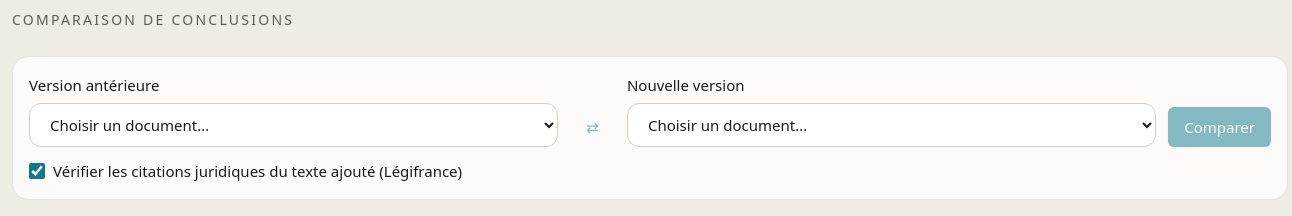
Test: CompareSection › keeps the compare button disabled until two distinct documents are selected
Check: the button "Comparer" is disabled, box [1168,107,1271,147]
Select "v1.docx" in the dropdown labelled "Version antérieure": (294, 125) [29,103,558,147]
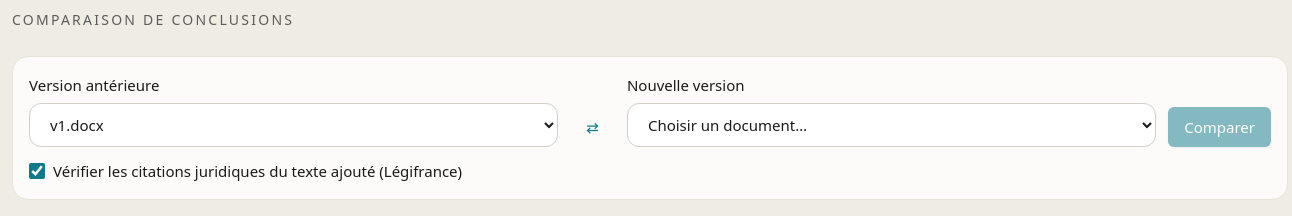
Select "v1.docx" in the dropdown labelled "Nouvelle version": (892, 125) [627,103,1156,147]
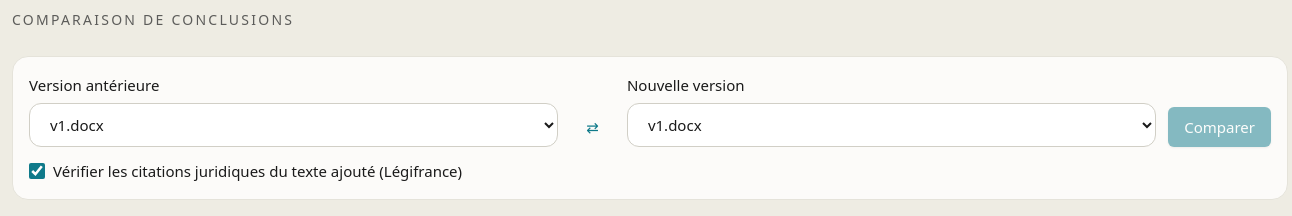
Check: the button "Comparer" is disabled, box [1168,107,1271,147]
Select "v2.pdf" in the dropdown labelled "Nouvelle version": (892, 125) [627,103,1156,147]
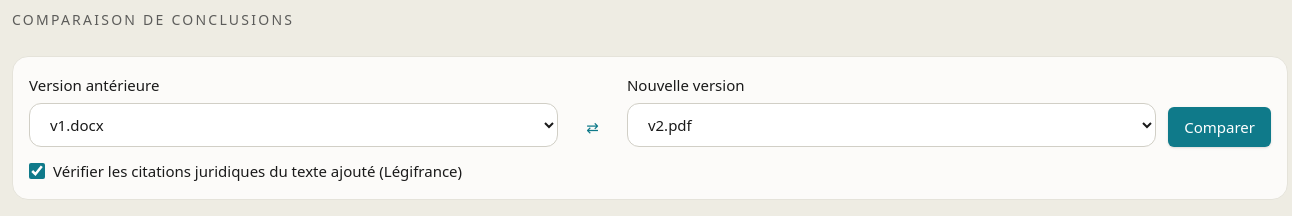
Check: the button "Comparer" is enabled, box [1168,107,1271,147]
